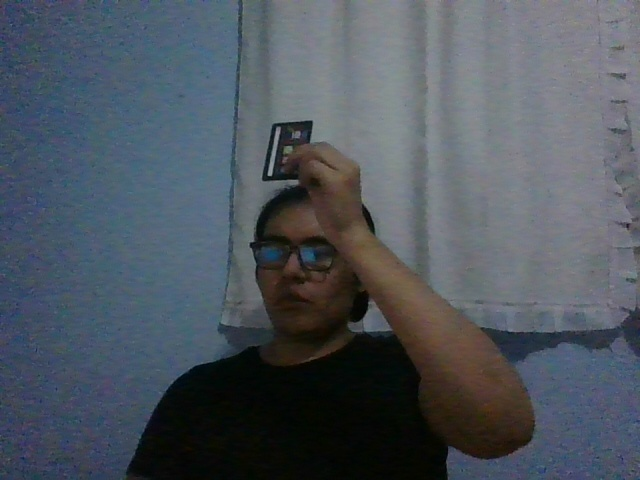tarjeta: (262, 120, 313, 181)
